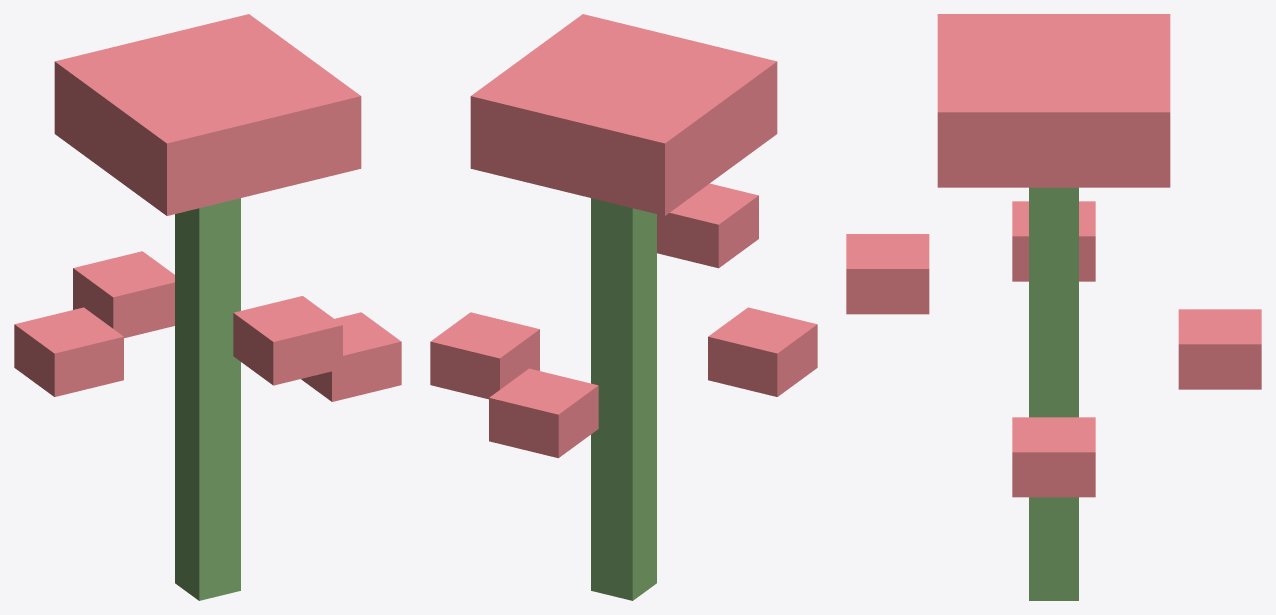
File: Prop_DS_Herb_ZipVine_S3_V1.glb
3 views of the same model, side by side, from view 1: azimuth 30°, elevation 25°; view 2: azimuth 150°, elevation 25°; view 3: azimuth 270°, elevation 25° (orthographic). The views are drawn at different scales.
Visible parts, largest first — view 1: Prop_DS_Herb_ZipVine_S3_V1; view 2: Prop_DS_Herb_ZipVine_S3_V1; view 3: Prop_DS_Herb_ZipVine_S3_V1.
Part boxes in pixels (x1,y1,x2,y2): Prop_DS_Herb_ZipVine_S3_V1: (14, 14, 401, 600); Prop_DS_Herb_ZipVine_S3_V1: (430, 14, 817, 600); Prop_DS_Herb_ZipVine_S3_V1: (846, 14, 1261, 600).
Size of the model in its own units: 0.5 by 0.7 by 0.5.
